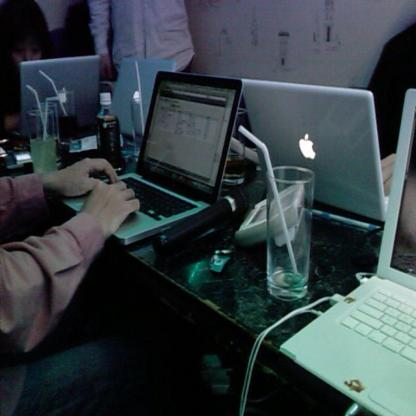board: (277, 89, 415, 415), (90, 68, 246, 242), (241, 80, 392, 228), (11, 54, 101, 142), (108, 58, 176, 139)
